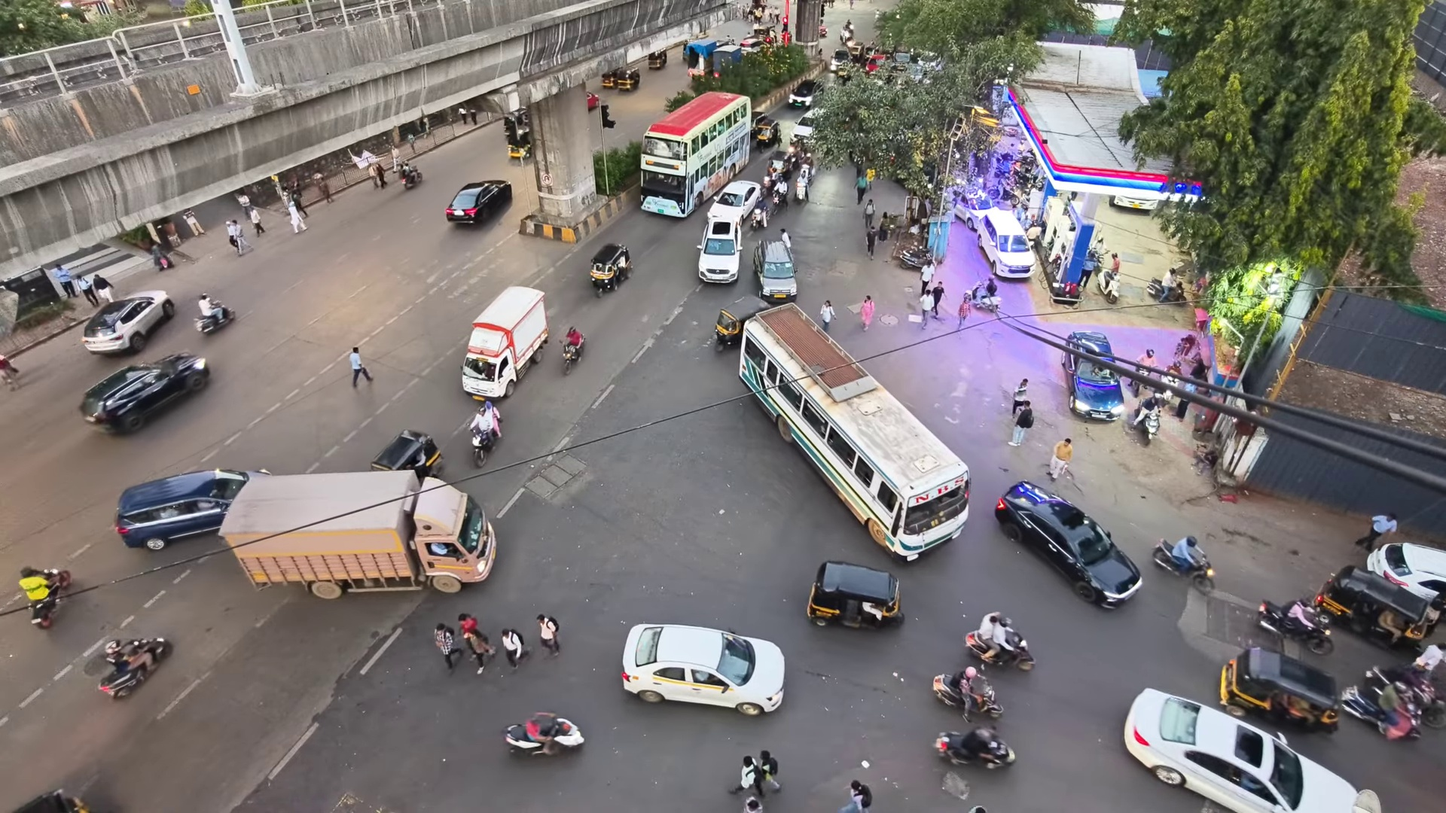driving: (740, 303, 969, 560), (220, 470, 496, 598), (1124, 689, 1379, 812), (996, 481, 1142, 607), (622, 624, 784, 715), (641, 91, 752, 217), (114, 469, 268, 550), (1314, 565, 1445, 649), (80, 353, 209, 433), (1219, 648, 1340, 732), (462, 286, 548, 399), (806, 560, 904, 628), (82, 291, 175, 354), (1341, 668, 1421, 740), (966, 208, 1036, 278), (98, 638, 172, 699), (1366, 543, 1445, 598), (1061, 352, 1124, 420), (1257, 599, 1333, 655), (371, 429, 443, 479), (932, 673, 1003, 720), (504, 714, 584, 755), (1152, 540, 1213, 593), (935, 729, 1015, 769), (445, 180, 512, 224), (697, 219, 742, 282), (754, 239, 798, 303), (712, 303, 770, 351), (966, 630, 1035, 670), (30, 568, 71, 629), (708, 180, 761, 222), (589, 243, 630, 297), (13, 790, 92, 812), (503, 108, 532, 160), (1131, 399, 1161, 446), (194, 300, 235, 334), (683, 39, 718, 76), (470, 427, 497, 467), (711, 44, 745, 75), (789, 79, 820, 109), (560, 340, 584, 375), (753, 114, 780, 145), (791, 108, 815, 139), (612, 67, 640, 90), (828, 49, 851, 72), (647, 49, 668, 70), (586, 92, 599, 111)
walking: (459, 614, 494, 674), (1355, 513, 1396, 551), (730, 755, 761, 794), (1010, 400, 1033, 446), (435, 623, 457, 671), (501, 628, 527, 668), (840, 780, 871, 812), (1048, 439, 1072, 480), (536, 614, 560, 655), (757, 750, 780, 791), (349, 347, 372, 387), (227, 220, 250, 256), (54, 264, 77, 297), (0, 355, 20, 390), (76, 276, 99, 306), (288, 186, 309, 218), (182, 209, 204, 236), (288, 202, 307, 233), (313, 172, 332, 203), (1011, 378, 1027, 414), (93, 274, 113, 302), (860, 295, 875, 330), (930, 281, 944, 318), (150, 242, 169, 269), (920, 259, 935, 288), (920, 291, 932, 327), (820, 300, 834, 330), (250, 208, 265, 236), (957, 295, 969, 328), (236, 192, 252, 216), (856, 174, 868, 204), (866, 227, 877, 259), (864, 198, 874, 227), (744, 796, 761, 812), (390, 144, 399, 174), (779, 228, 791, 250)
